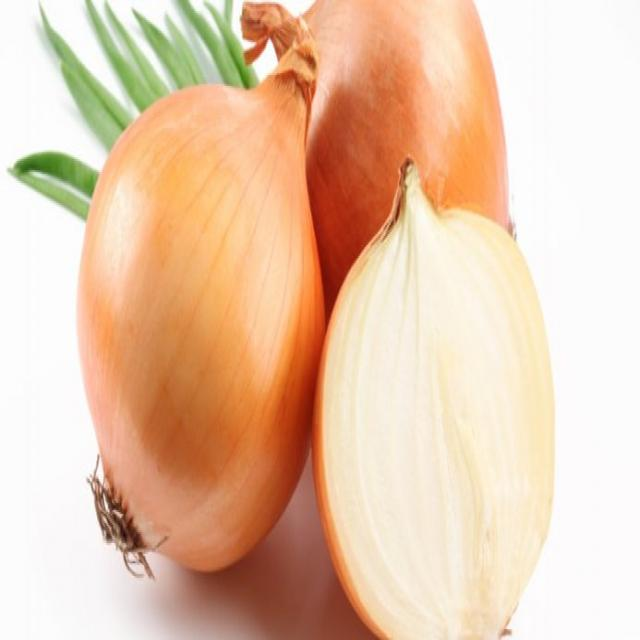onion: (73, 87, 310, 578), (317, 229, 558, 640), (304, 0, 507, 215)
